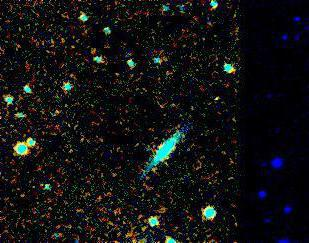star: (205, 84, 235, 114)
